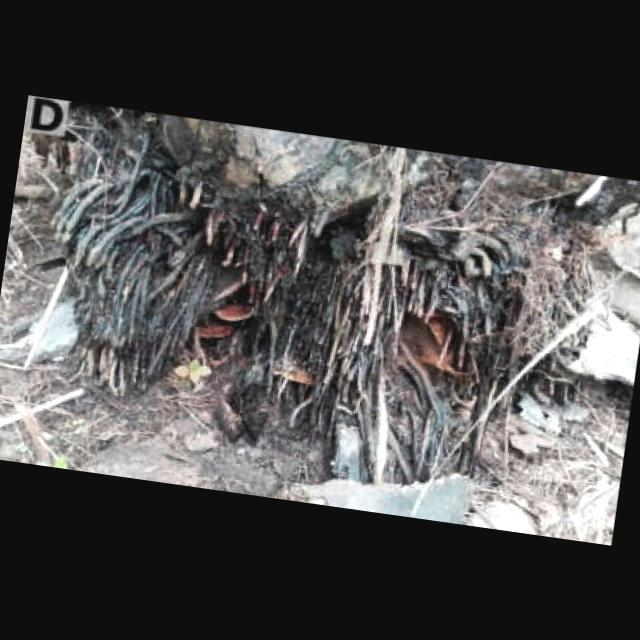ganoderma: (213, 301, 259, 326), (194, 319, 237, 343)
